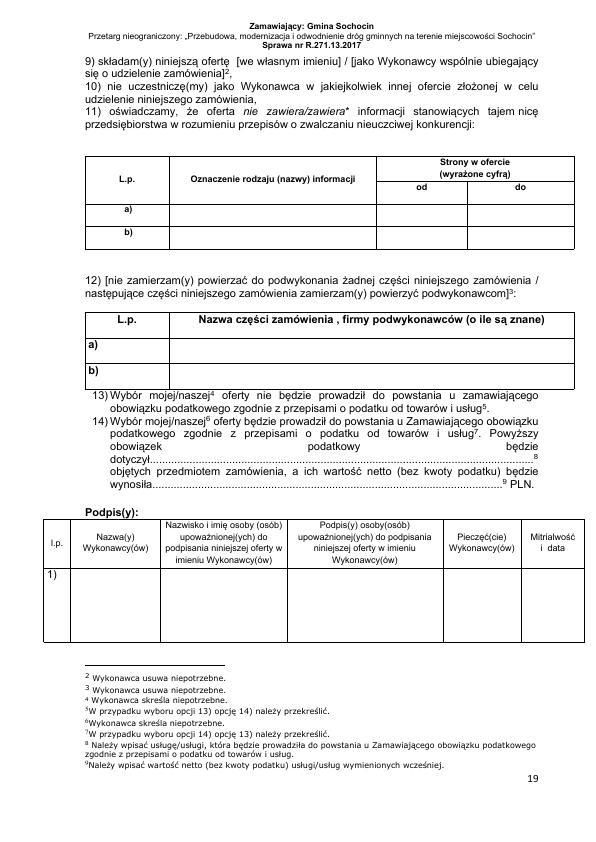table: (40, 518, 589, 647), (81, 150, 581, 254), (80, 308, 577, 392)
text: (80, 18, 548, 137), (79, 671, 544, 774), (91, 390, 543, 495), (82, 273, 544, 304), (80, 505, 137, 517)
